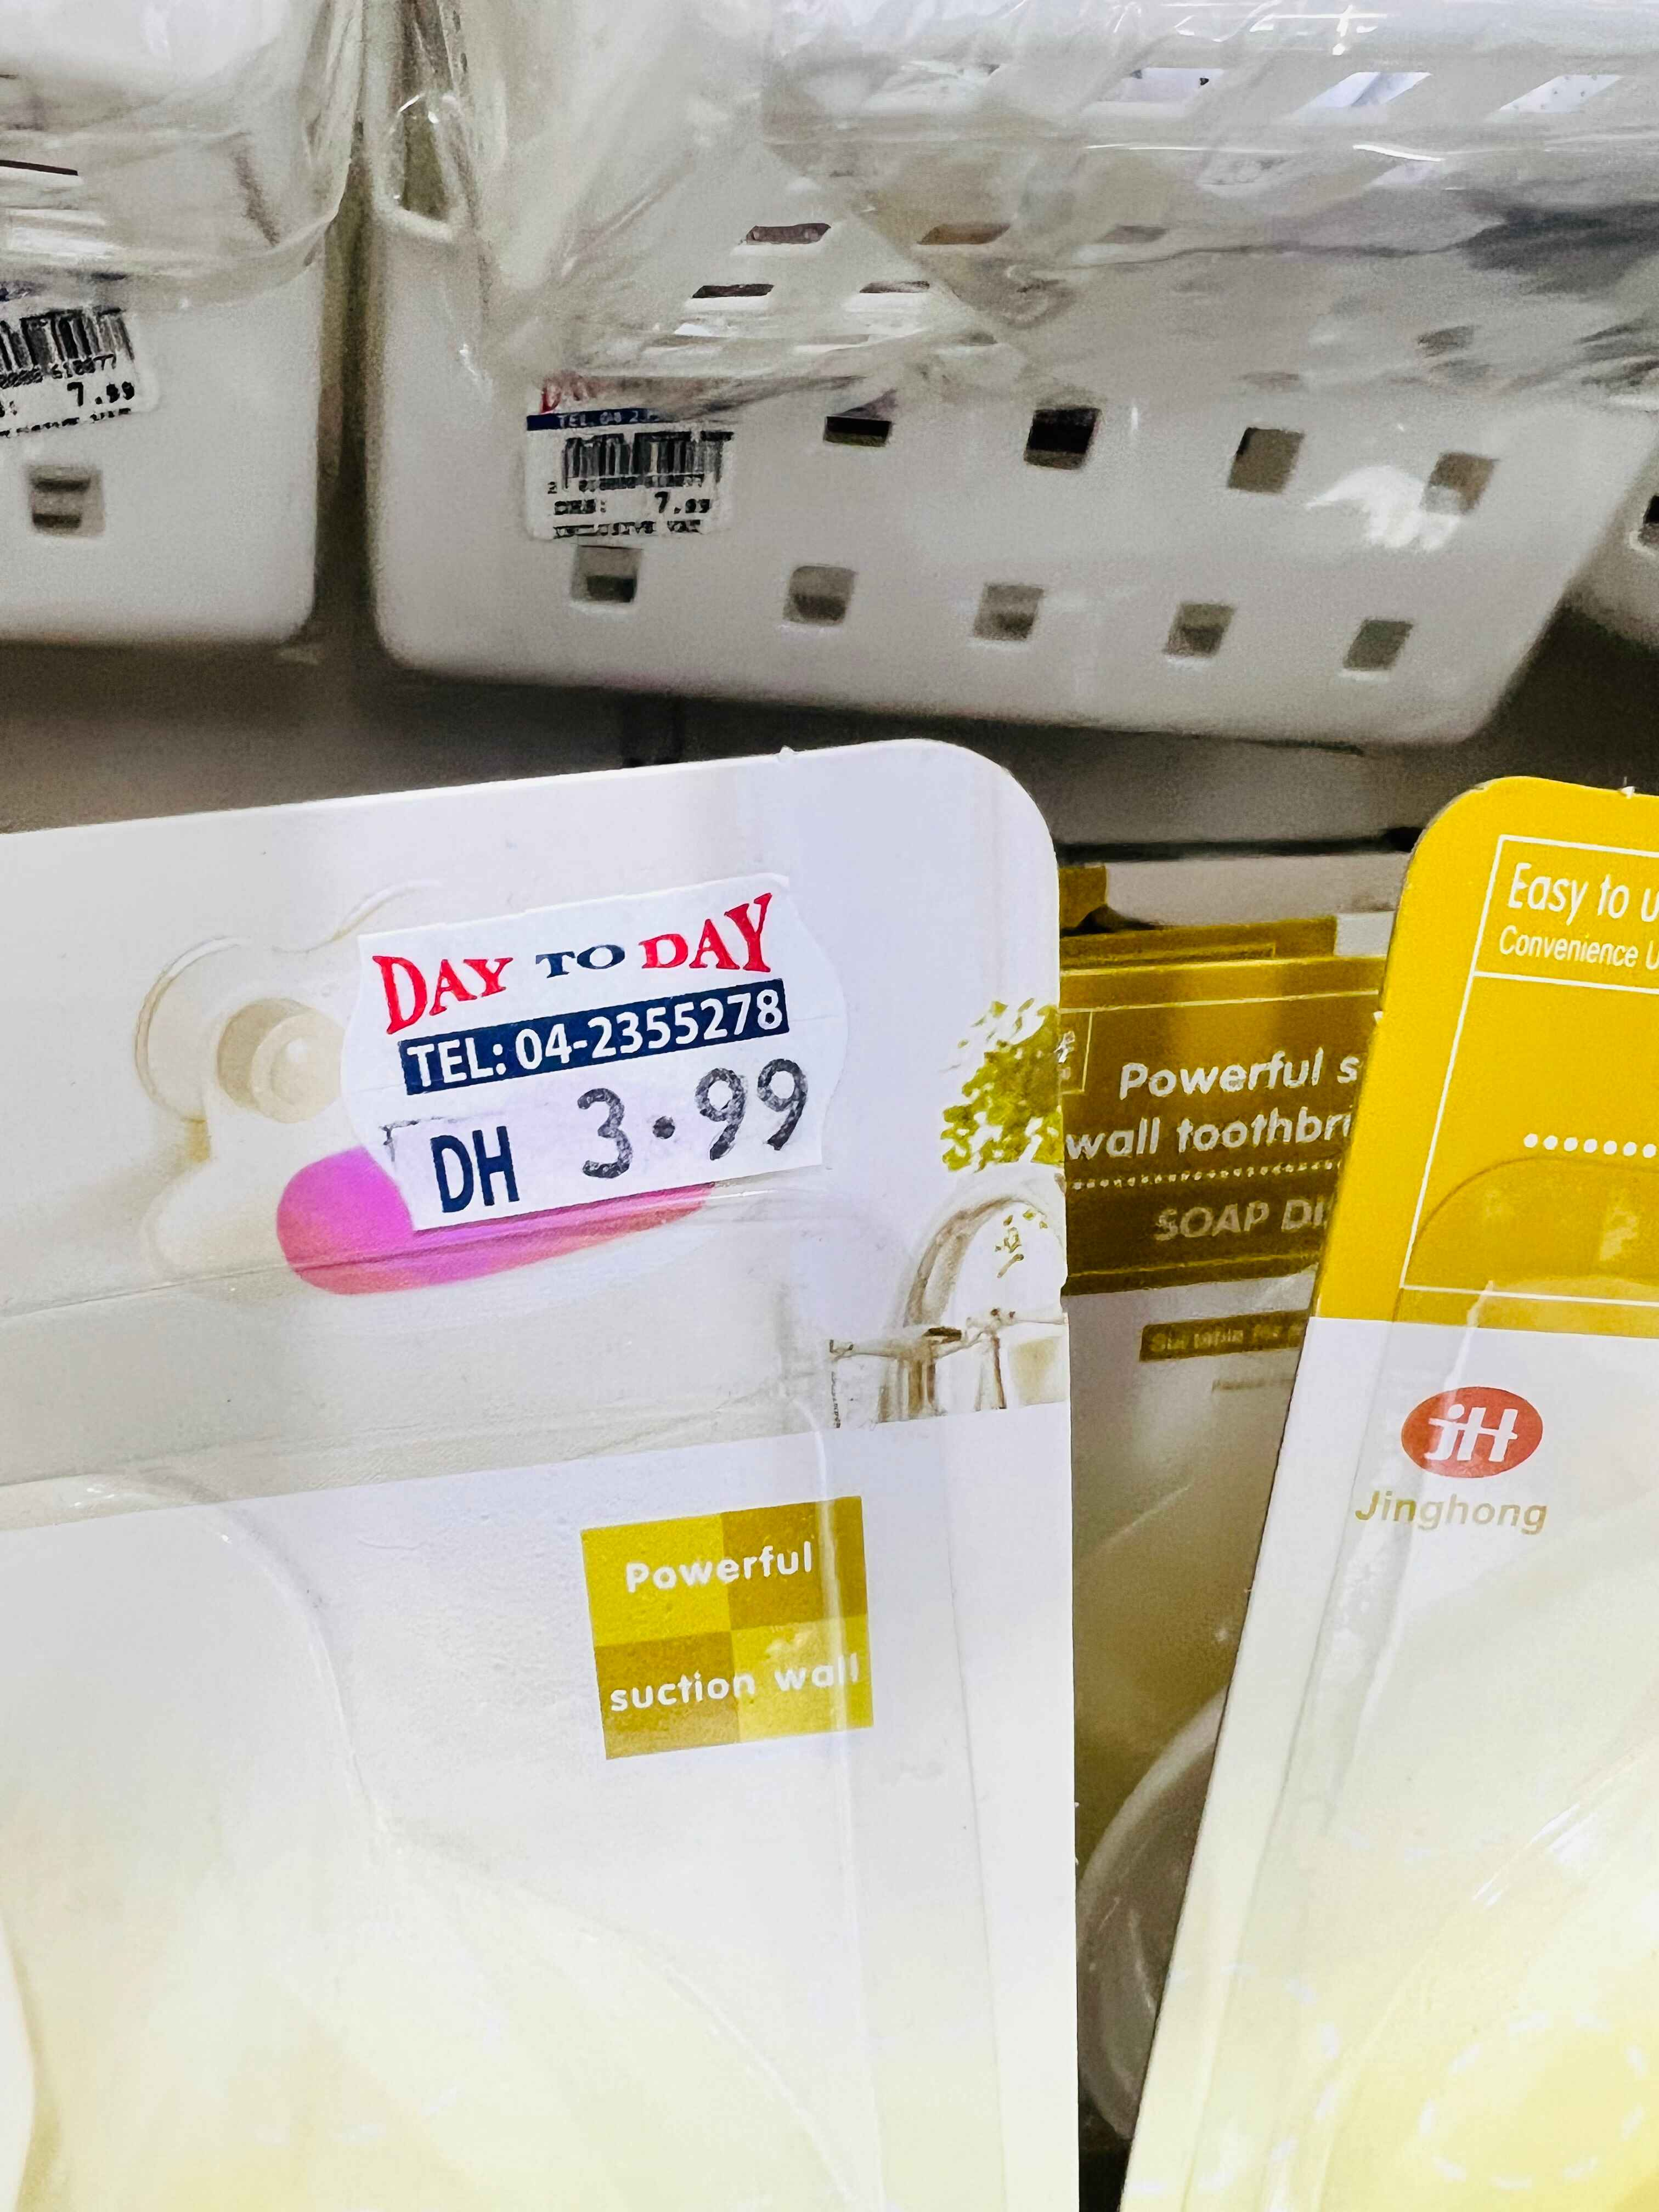PriceTagBig: (530, 359, 753, 540), (0, 266, 159, 437)
PriceTagSmall: (345, 869, 863, 1212)
